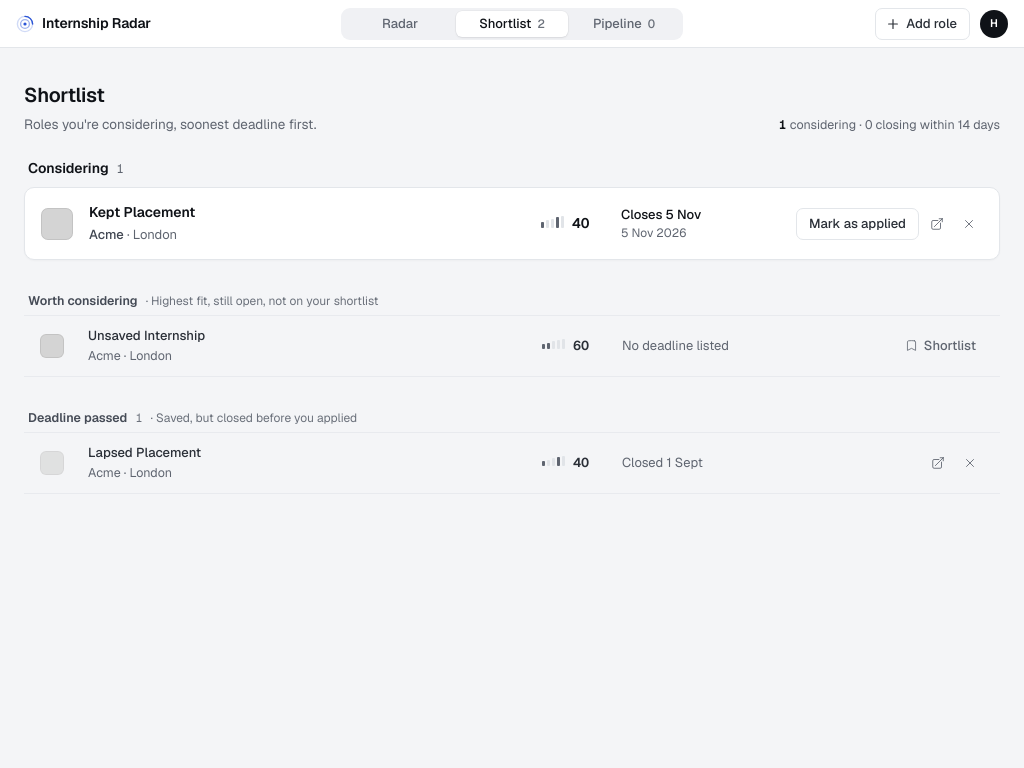
Test case: Shortlist with the API › unsaving removes the role from the Shortlist and persists
Expected: the button "Shortlist 2" is shown, [456, 10, 568, 36]
Click the button named "Remove Kept Placement from shortlist".
click(969, 224)  # box [955, 210, 983, 238]
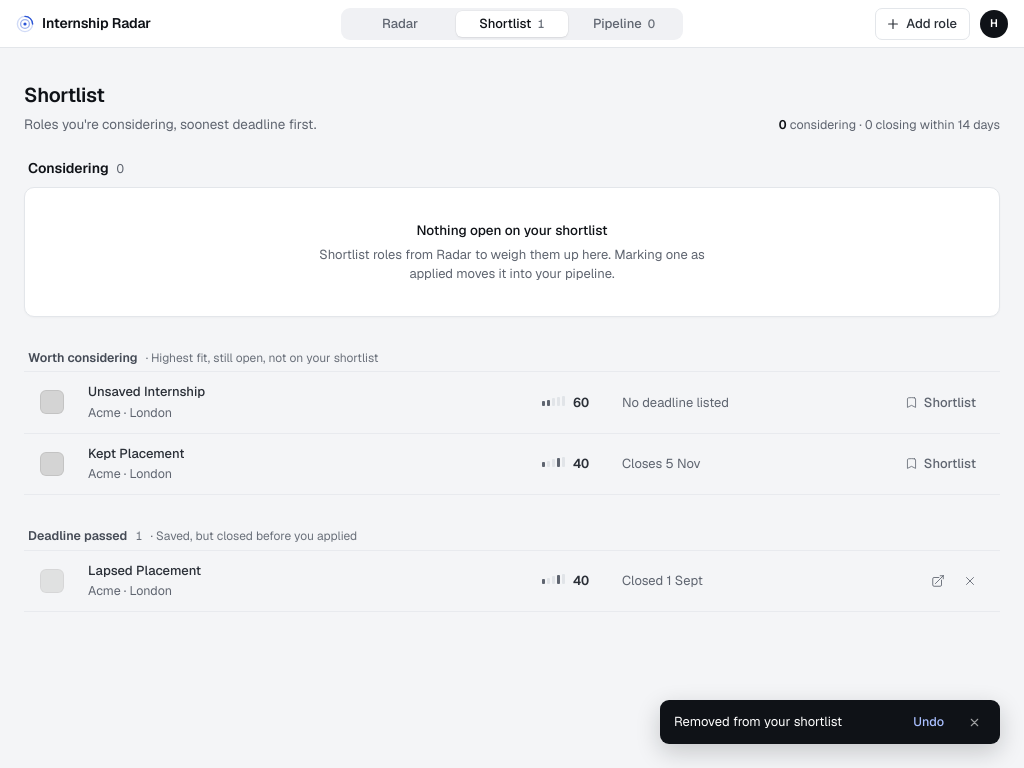
Expected: the button "Shortlist 1" is shown, [456, 10, 568, 36]
